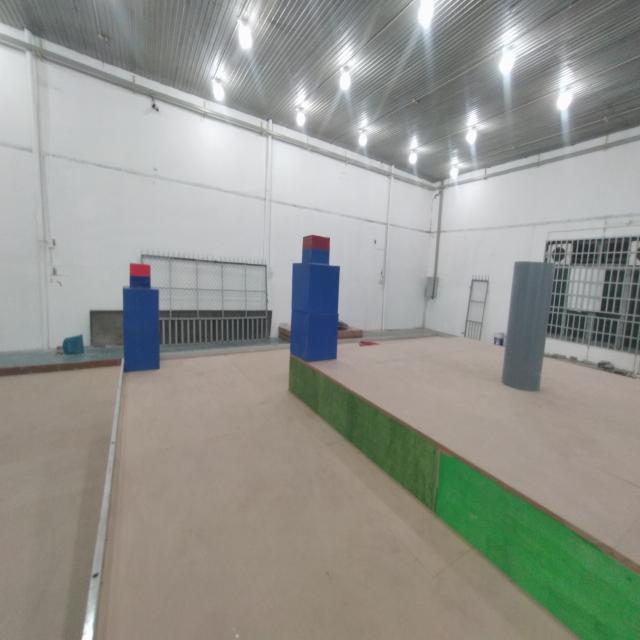earth_block: (289, 312, 343, 363), (289, 262, 341, 314), (122, 328, 162, 373), (121, 288, 161, 327)
sky_block: (302, 234, 332, 264), (129, 261, 151, 288)
